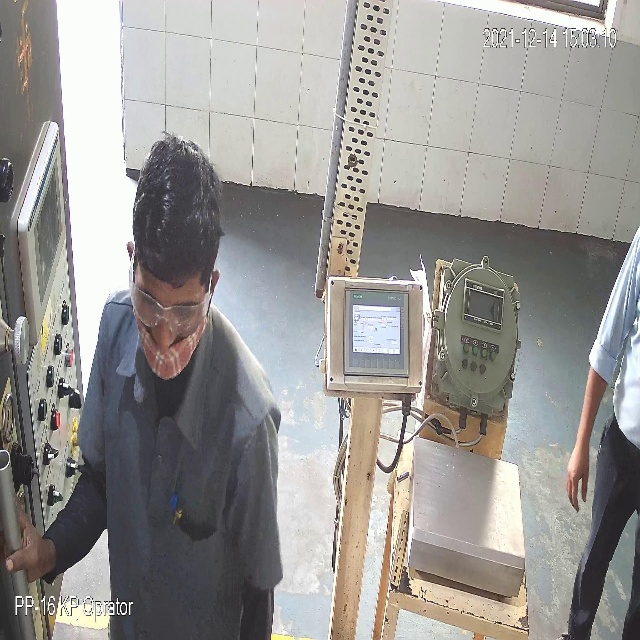Gafas: (126, 270, 210, 336)
